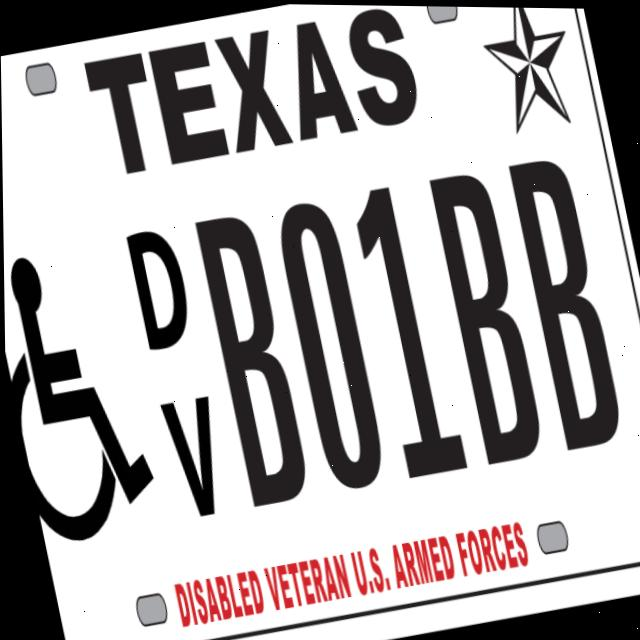symbol_of_access: (3, 231, 167, 560)
